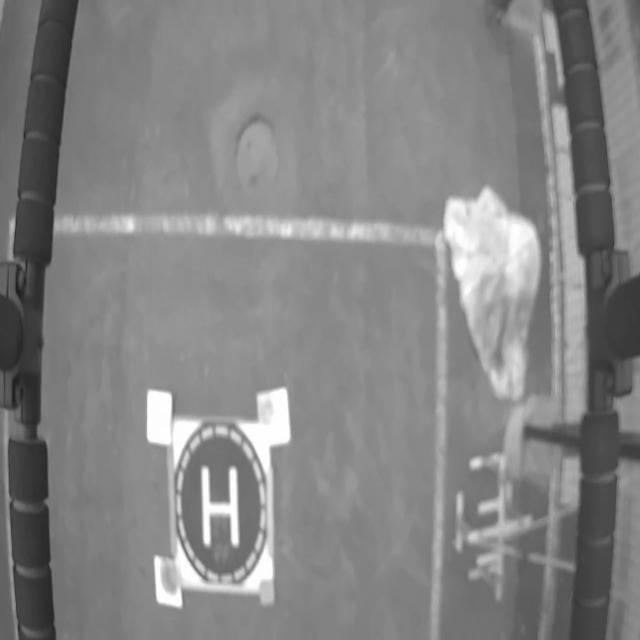Helipad: (202, 466, 239, 547)
